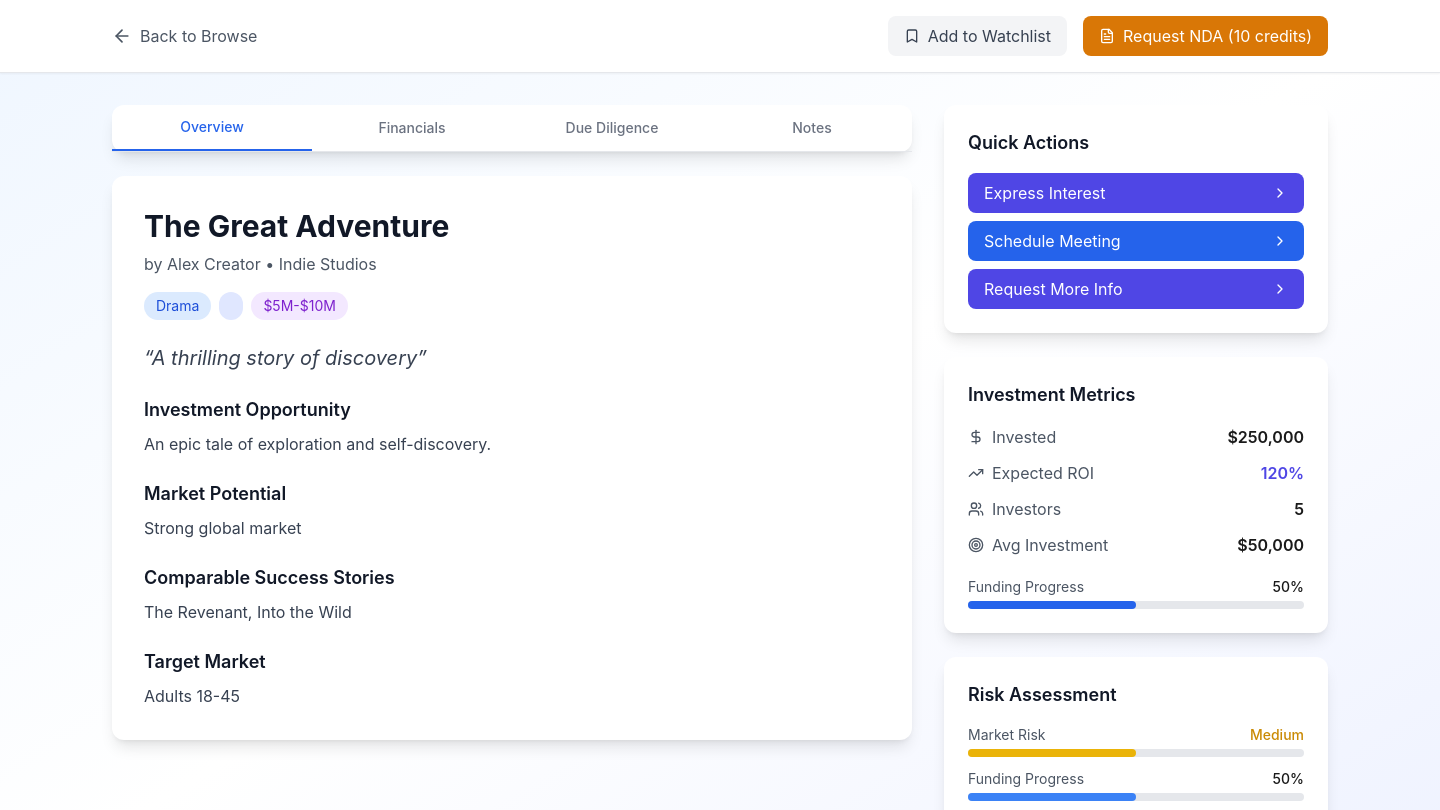
it: InvestorPitchView › Tab Navigation › switches to notes tab
The width and height of the screenshot is (1440, 810).
Expected: the heading "The Great Adventure" is shown, [144,208,449,244]
Click the button "notes" at (812, 128), box [712,105,912,151]
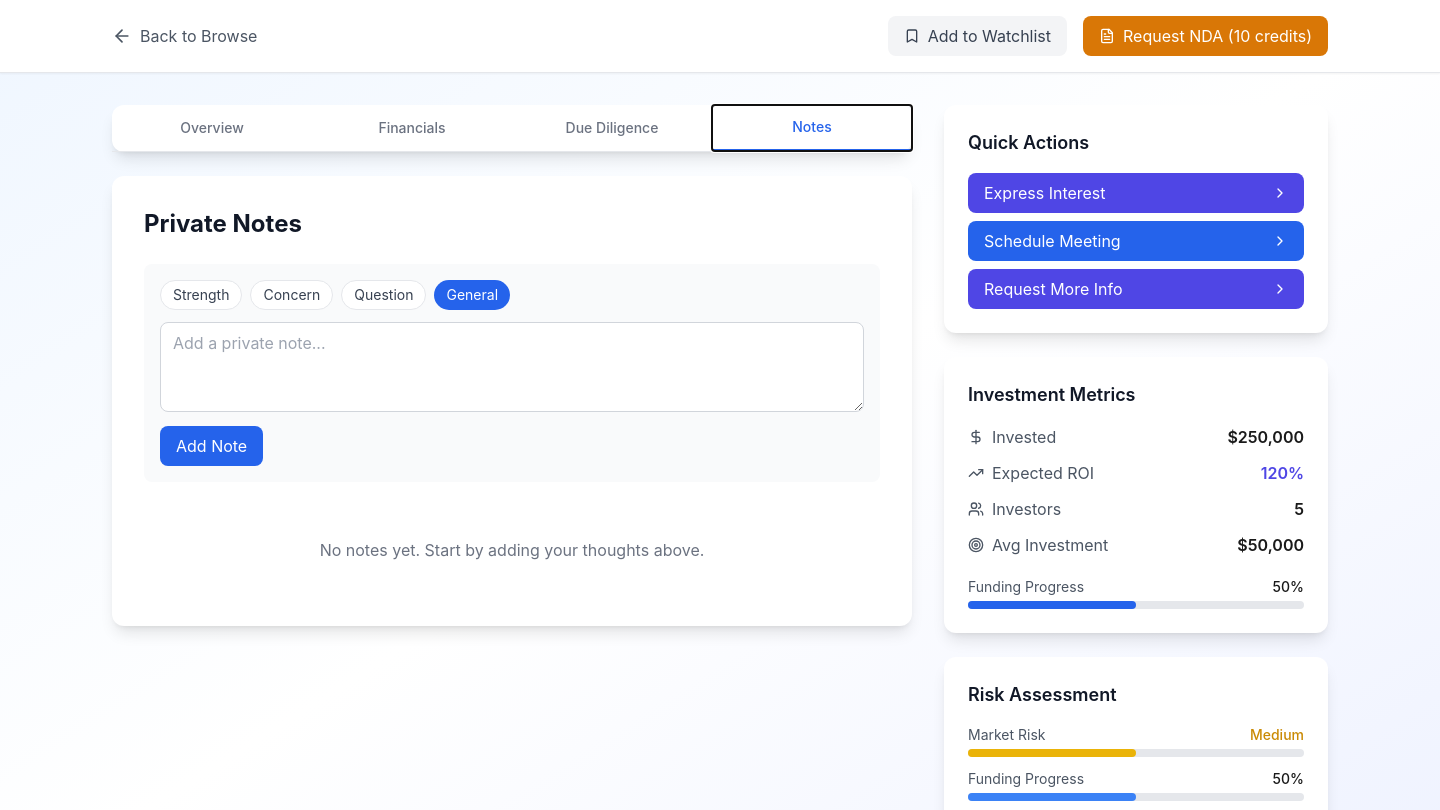
Expected: the heading "Private Notes" is shown, [144,209,302,238]
